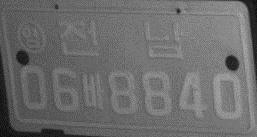0: (212, 71, 242, 121), (19, 64, 48, 111)
4: (177, 71, 208, 119)
6: (51, 65, 80, 112)
8: (141, 70, 173, 116), (107, 69, 137, 115)
바: (81, 71, 104, 111)
영: (16, 19, 47, 54)
전남_D: (56, 17, 184, 60)
